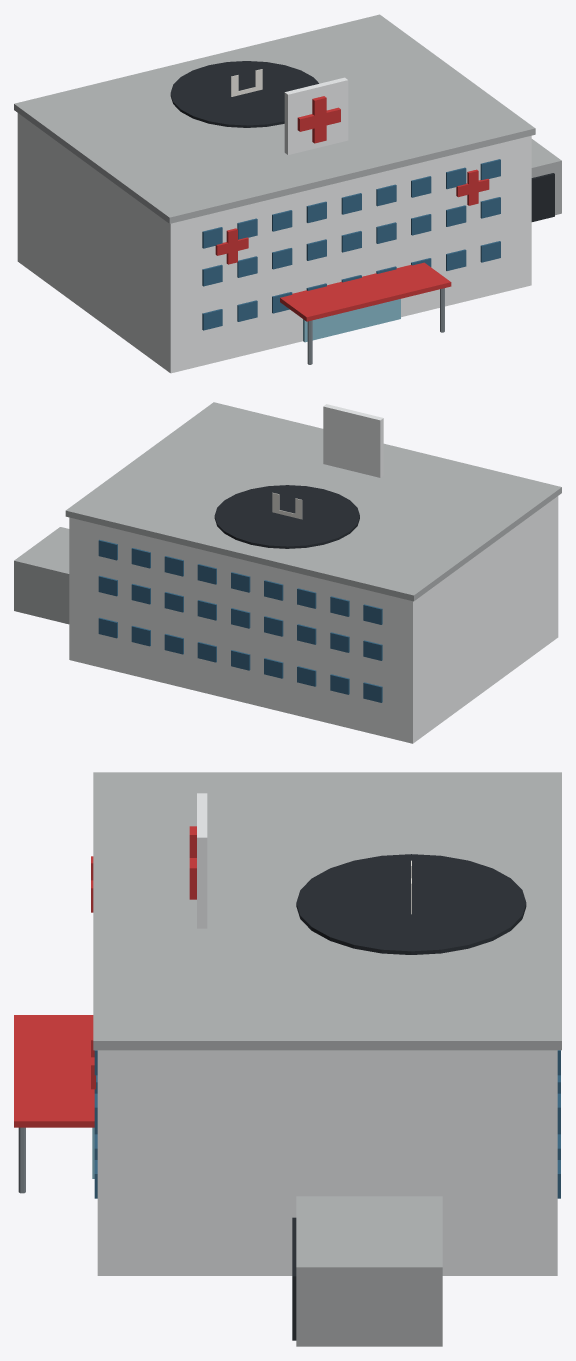
File: hospital.glb
3 renders of one model, top to bottom at view 1: azimuth 30°, elevation 25°; view 2: azimuth 150°, elevation 25°; view 3: azimuth 270°, elevation 25°, orthographic. The views are drawn at different scales.
Parts seen in each view (by area): view 1: Cube.001; view 2: Cube.001; view 3: Cube.001.
Part boxes in pixels (box(x1,y1,x2,y2)): Cube.001: box(14, 14, 561, 373); Cube.001: box(14, 402, 561, 743); Cube.001: box(14, 772, 561, 1346).
Bounding box in the file's own units: 38.2 × 17.3 × 26.2.
